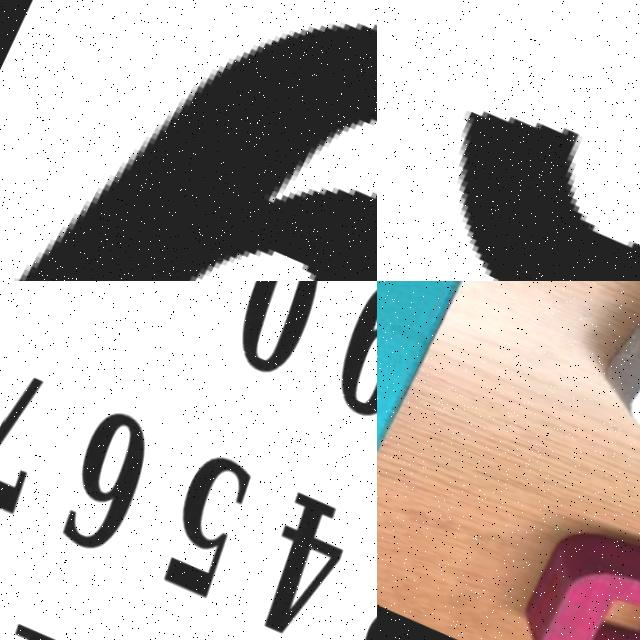0: (191, 281, 362, 419)
3: (318, 522, 377, 640)
4: (224, 473, 377, 640)
5: (131, 439, 282, 622)
6: (14, 384, 187, 604)
7: (0, 343, 85, 553)
9: (297, 281, 377, 455)
C: (459, 107, 640, 281)
G: (0, 0, 377, 281)
O: (486, 491, 640, 640)
Q: (560, 281, 640, 543)
